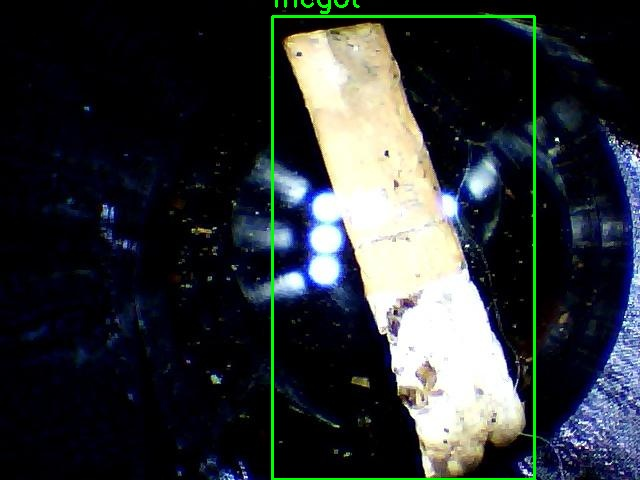megot: (272, 16, 534, 479)
